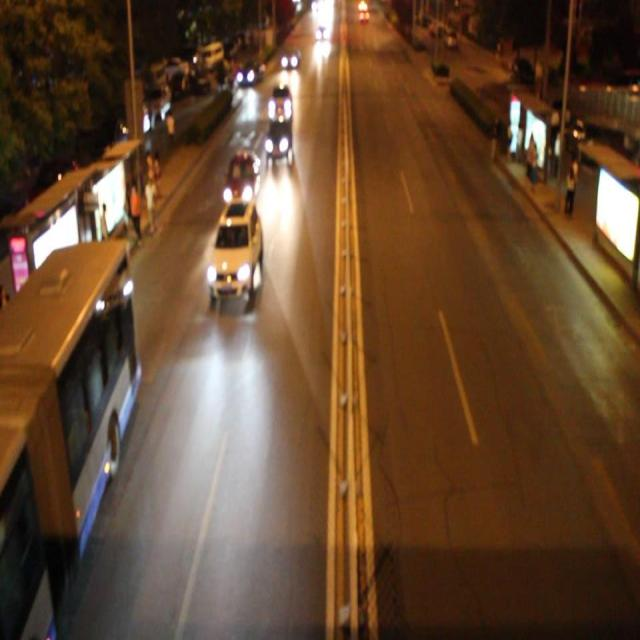car: (208, 200, 262, 298), (222, 149, 259, 208), (265, 115, 291, 160), (268, 83, 291, 122)
van: (0, 246, 129, 640)
